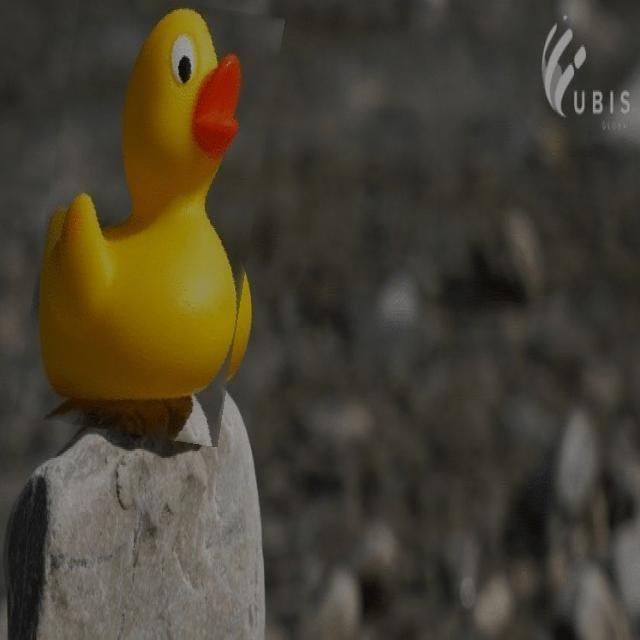rubber-duck: (38, 8, 250, 433)
